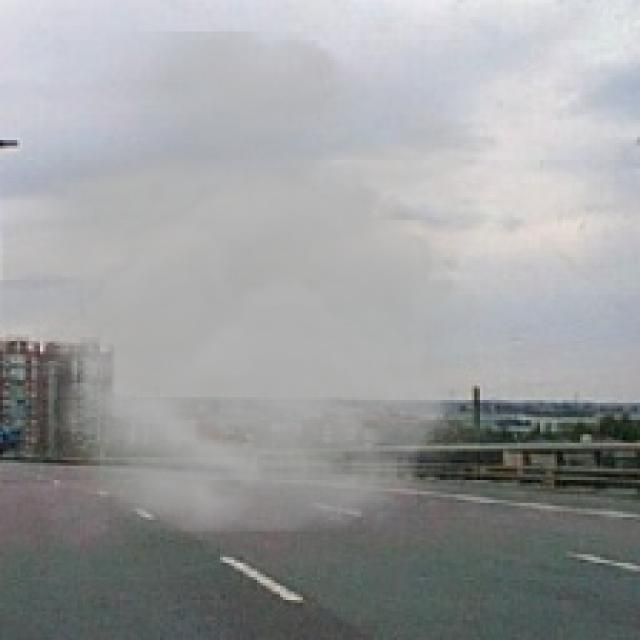Smoke: (2, 31, 554, 563)
